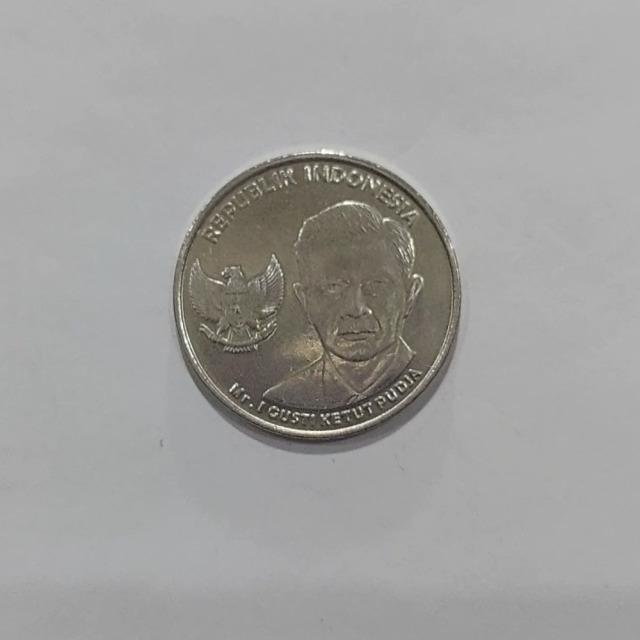Rp100: (172, 149, 462, 445), (256, 197, 427, 413)
